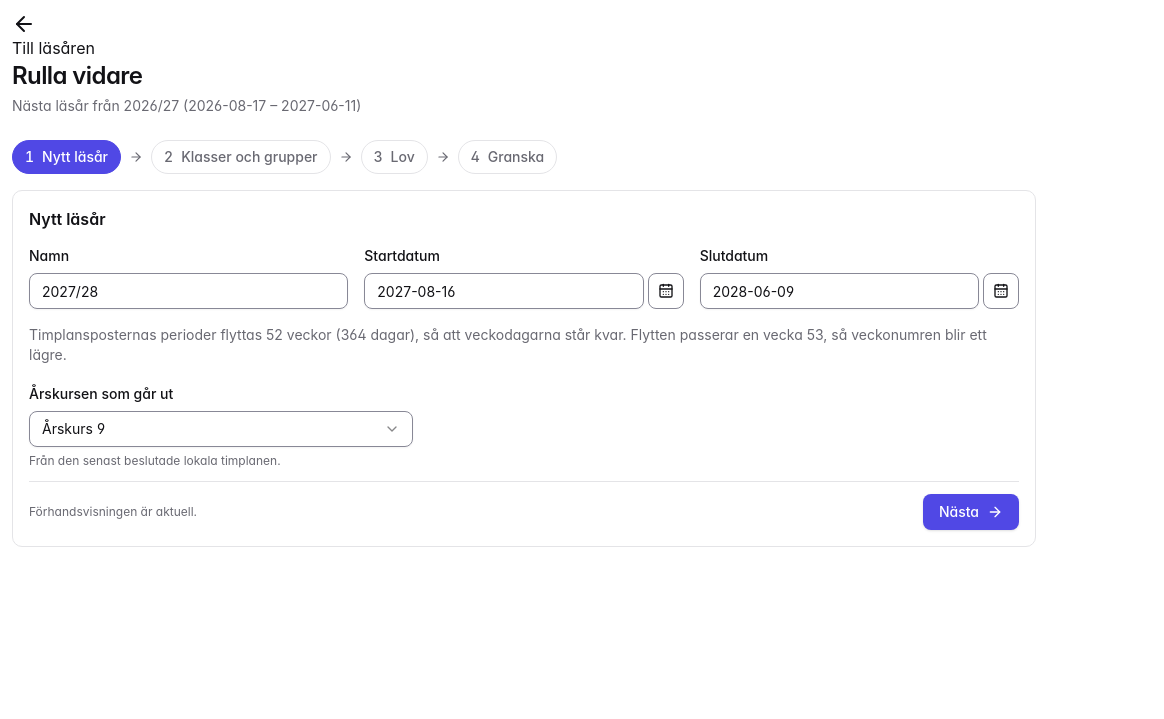
RolloverWizard › names next year's groups from the mirror, and marks a collision on the keystroke
Click the button "2 Klasser och grupper": coordinates (241, 157) [151, 140, 330, 174]
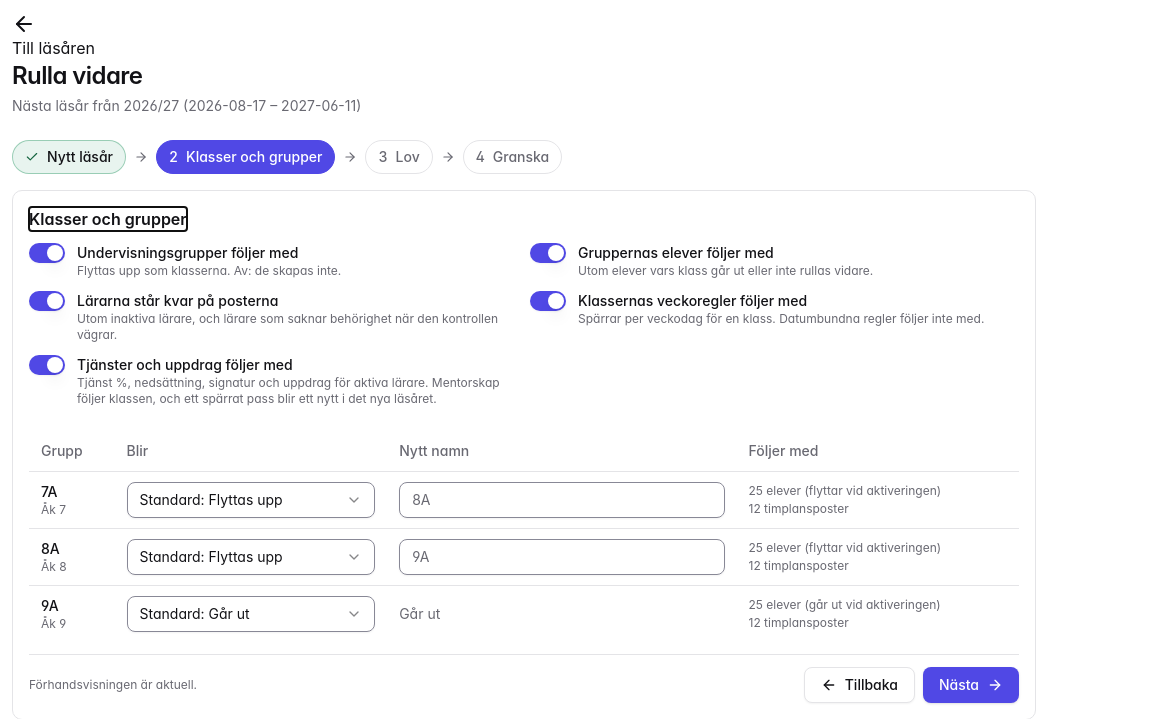
Expected: the number of dropdowns labelled "Standard: Flyttas upp" is 3, [126, 482, 375, 518]; [126, 538, 375, 574]; [126, 596, 375, 632]
In the field named "Nytt namn för 7A": coordinates (562, 500) [399, 482, 725, 518], type "9A"
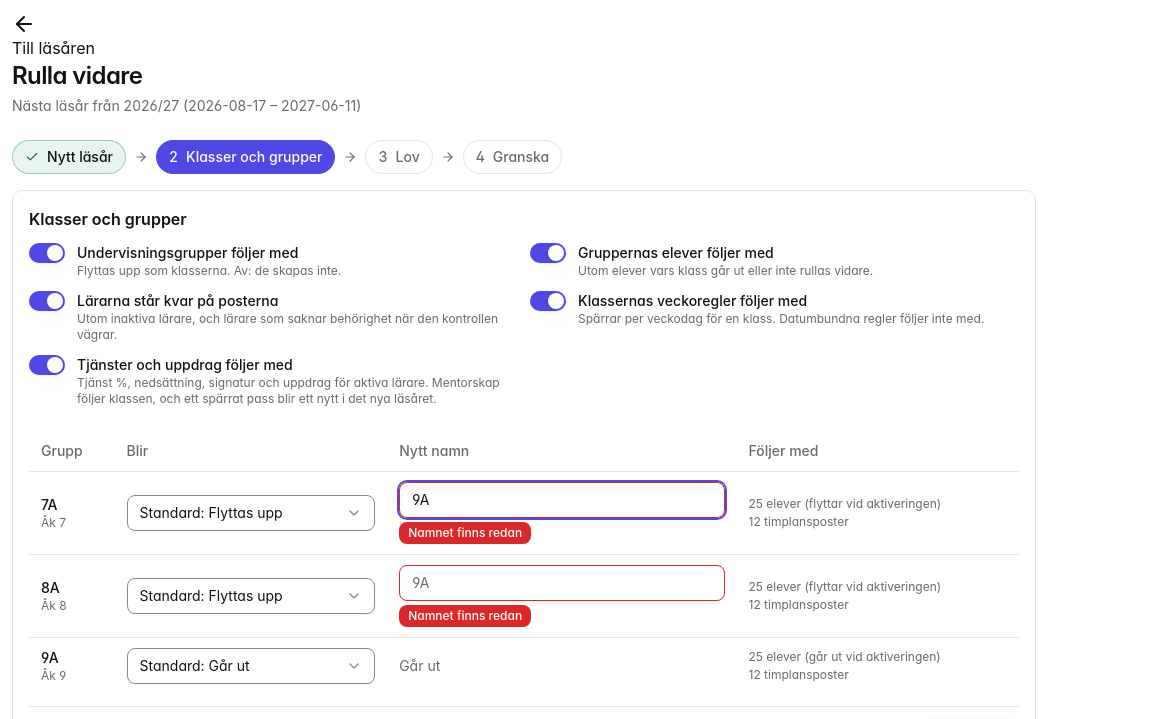
Expected: the text "Namnet finns redan" is shown 2 times, [399, 522, 531, 544]; [399, 604, 531, 626]
